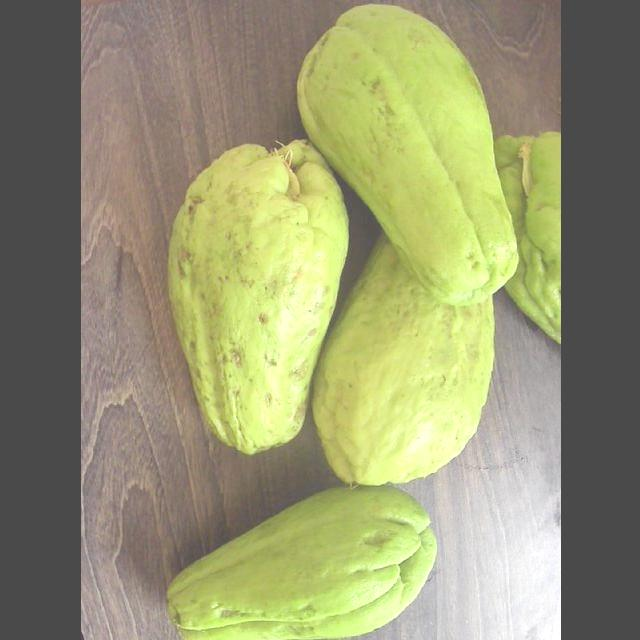chayote: (297, 4, 517, 305), (169, 140, 347, 454), (313, 235, 493, 484), (167, 487, 436, 638), (494, 132, 560, 343)
